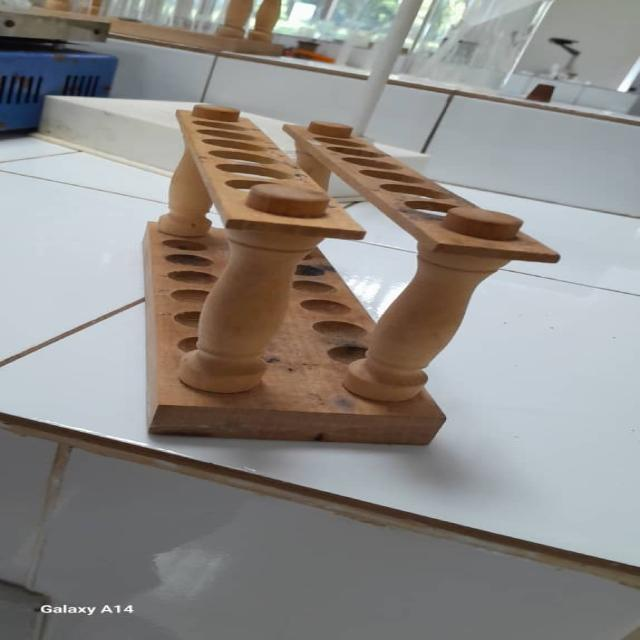Test Tube Racks: (133, 90, 568, 454)
